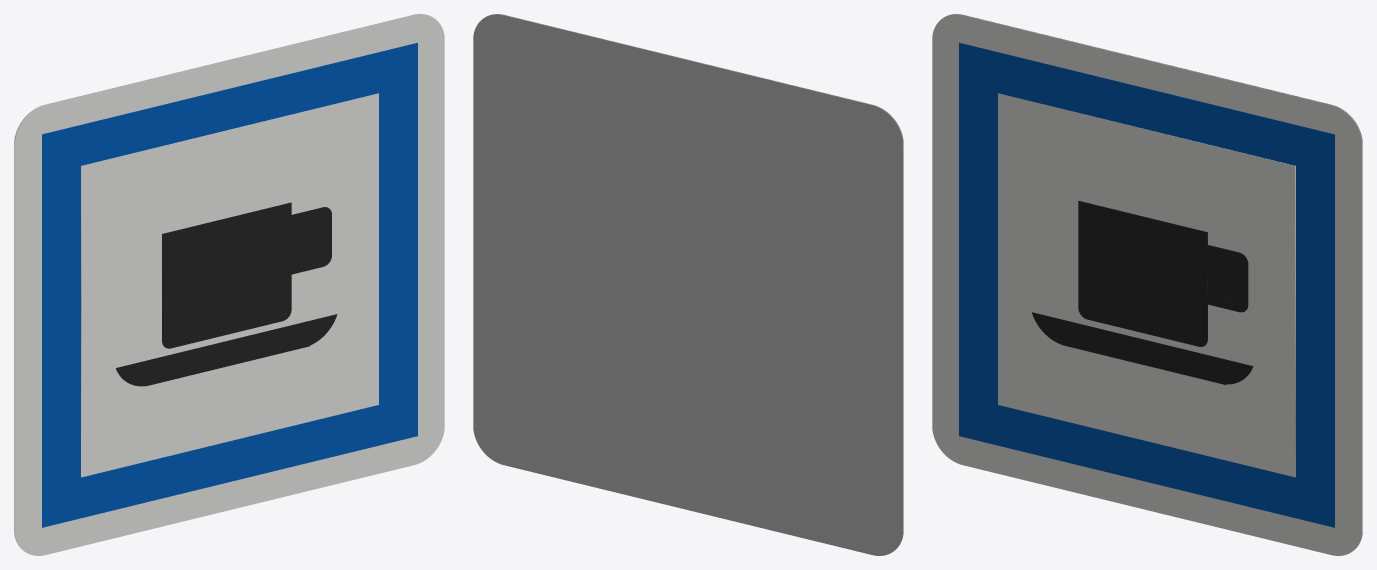
3 renders of one model, left to right at view 1: azimuth 30°, elevation 25°; view 2: azimuth 150°, elevation 25°; view 3: azimuth 330°, elevation 25°, orthographic.
Visible parts, largest first — view 1: CE18_p02, CE18_p01, CE18_p00, CE18_p04, CE18_p05, CE18_p03, CE18_dos; view 2: CE18_dos, CE18_p00; view 3: CE18_p02, CE18_p01, CE18_p00, CE18_p04, CE18_p05, CE18_p03, CE18_dos.
Part boxes in pixels (x1,y1,x2,y2): CE18_p02: (81,93,378,477); CE18_p01: (42,42,417,527); CE18_p00: (14,14,444,555); CE18_p04: (162,202,331,348); CE18_p05: (115,314,337,386); CE18_p03: (291,221,320,262); CE18_dos: (14,14,431,547); CE18_dos: (473,14,903,555); CE18_p00: (486,14,903,547); CE18_p02: (998,93,1295,477); CE18_p01: (959,42,1334,527); CE18_p00: (932,14,1362,555); CE18_p04: (1078,200,1248,346); CE18_p05: (1031,312,1253,384); CE18_p03: (1208,258,1237,299); CE18_dos: (945,14,1362,547).
Bounding box in the file's own units: 0.7 × 0.6999 × 0.0039.
